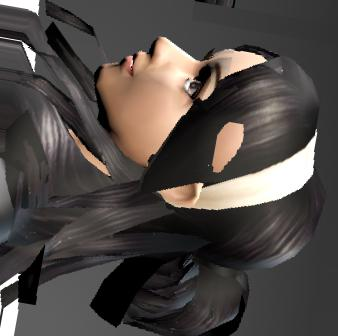clip: (211, 118, 250, 156)
